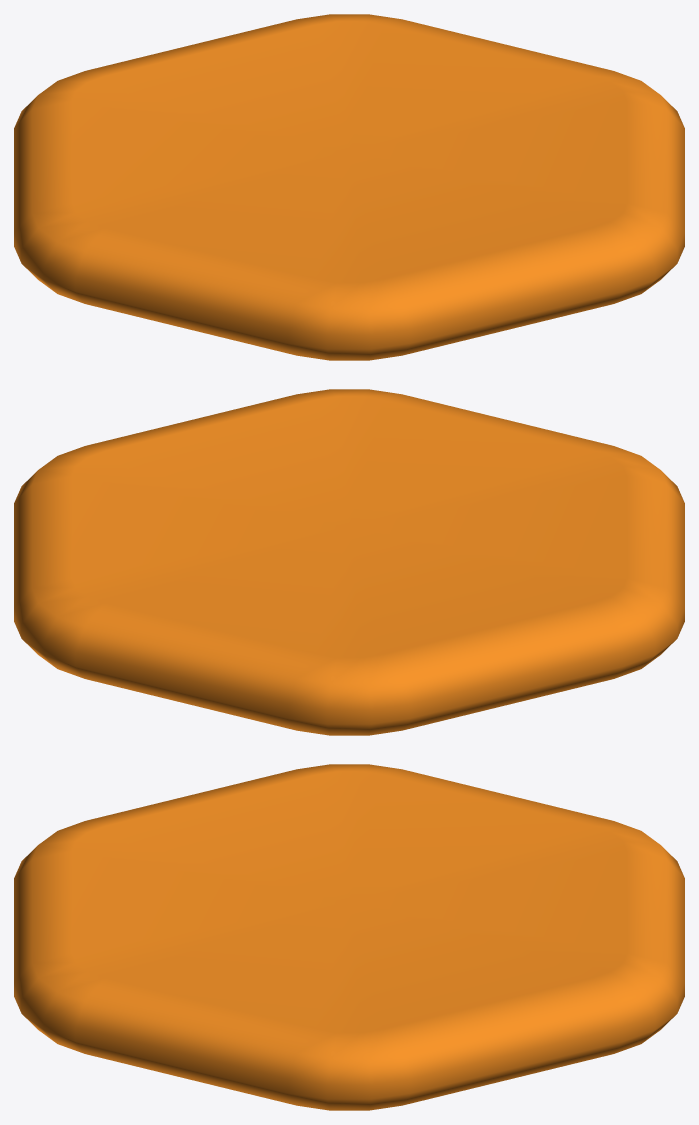
Rendered from Hex_Orange.fbx.
The picture shows the model from 3 angles, top to bottom: view 1: azimuth 30°, elevation 25°; view 2: azimuth 150°, elevation 25°; view 3: azimuth 270°, elevation 25°; orthographic projection.
Parts seen in each view (by area): view 1: SM_Orange; view 2: SM_Orange; view 3: SM_Orange.
Part boxes in pixels (x1=…): SM_Orange: x1=14, y1=14, x2=684, y2=360; SM_Orange: x1=14, y1=389, x2=684, y2=735; SM_Orange: x1=14, y1=764, x2=684, y2=1110.
Size of the model in its own units: 218 by 23.58 by 200.
Materials: 1 (1 with a texture image).
